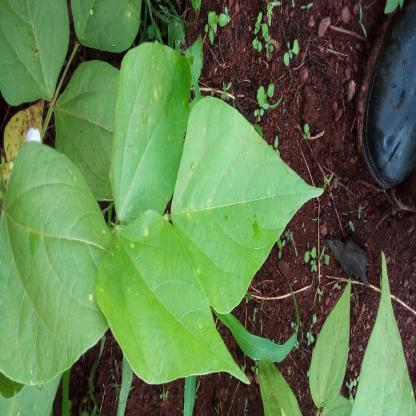Beans_Rust: (165, 102, 317, 316), (94, 205, 248, 386), (3, 138, 113, 390), (110, 41, 193, 222), (70, 0, 141, 52)
